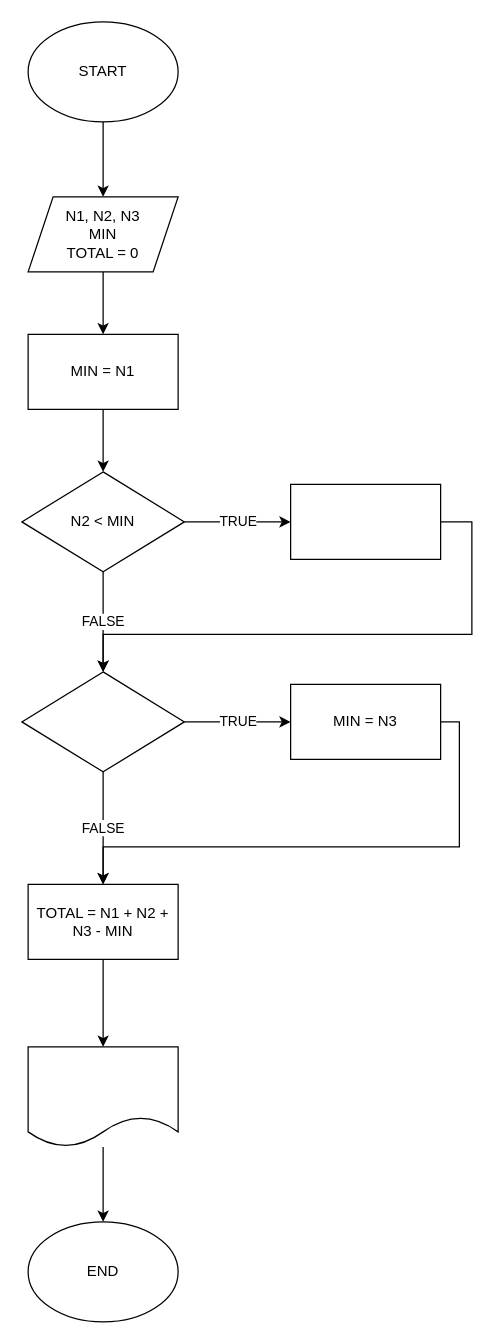
The diagram is 504 pixels wide and 1344 high, and some of its shapes have lost their labels. Each missing label, with the centre of its shape:
"MIN = N2" belongs at [365,521].
"N3 < MIN" belongs at [102,721].
"TOTAL" belongs at [102,1096].
